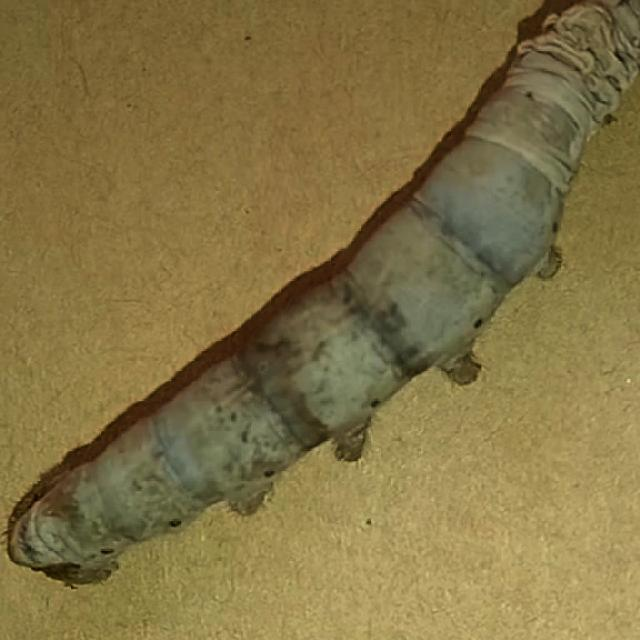Grasserie: (15, 9, 616, 605)
